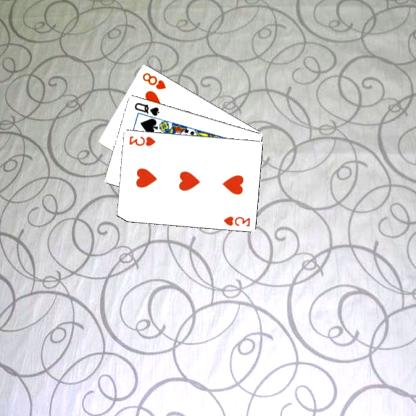3H: (222, 213, 253, 228), (128, 133, 158, 147)
8H: (141, 70, 169, 90)
QS: (134, 99, 162, 117)
